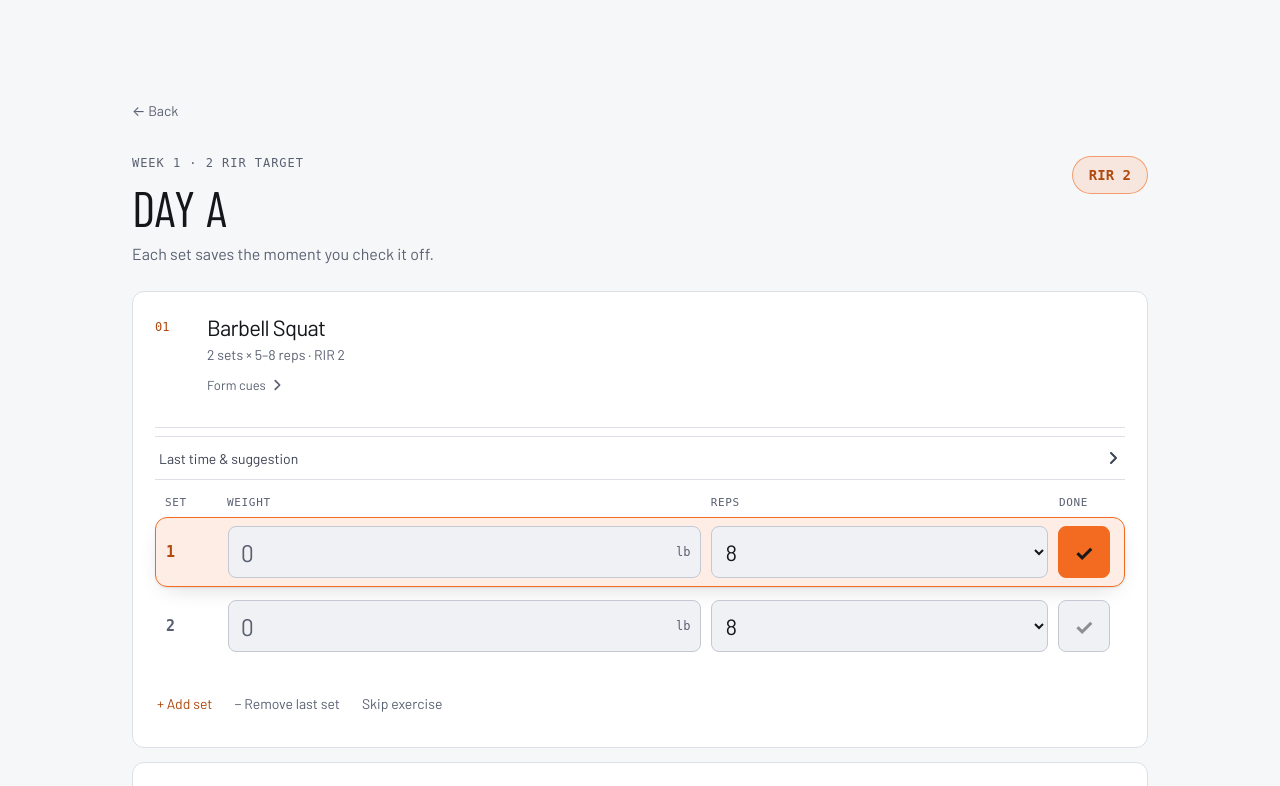
Scenario: SessionView form cues › expanding and collapsing writes nothing to the session
This screenshot has width=1280, height=786.
Step 1. Click the button with aria-label "Barbell Squat form cues" → (245, 385), box [207,363,284,407]
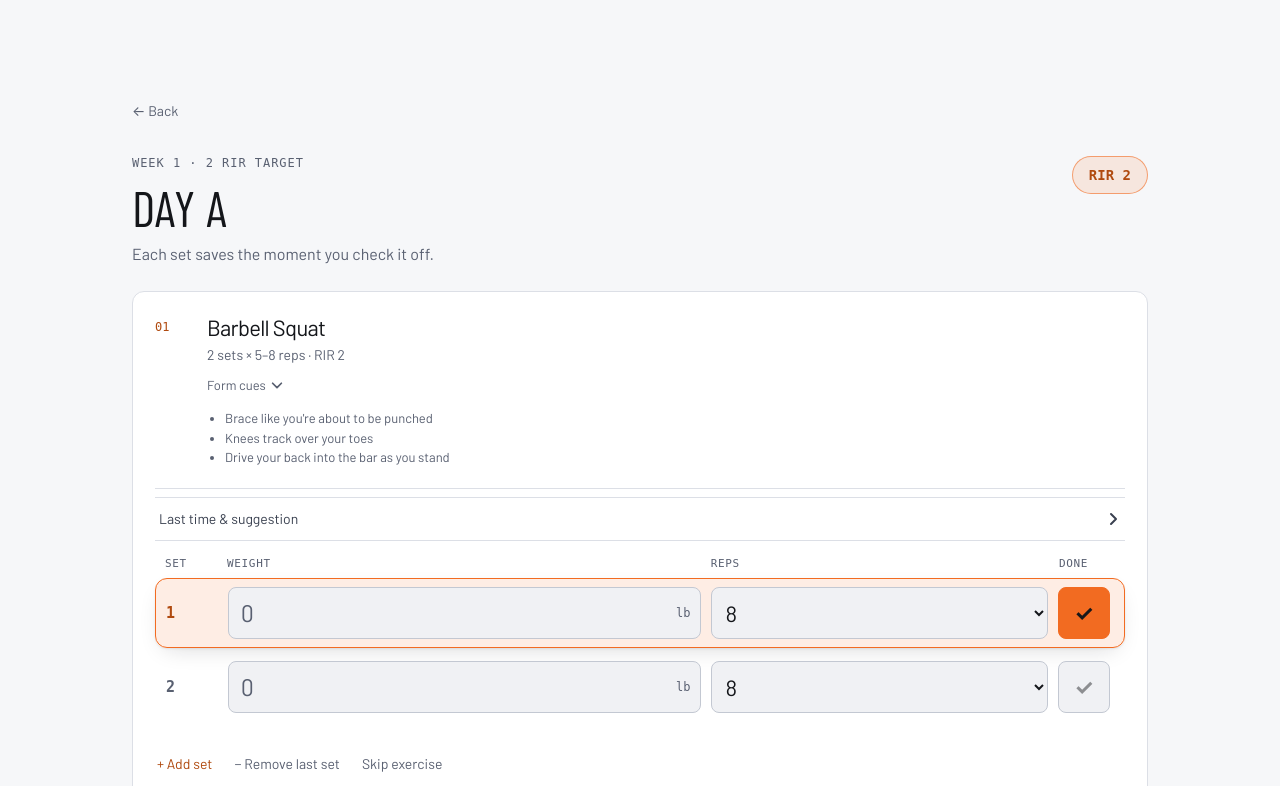
Expected: the button with aria-label "Barbell Squat form cues" is expanded
Step 2. Click the button with aria-label "Barbell Squat form cues" → (245, 385), box [207,363,284,407]
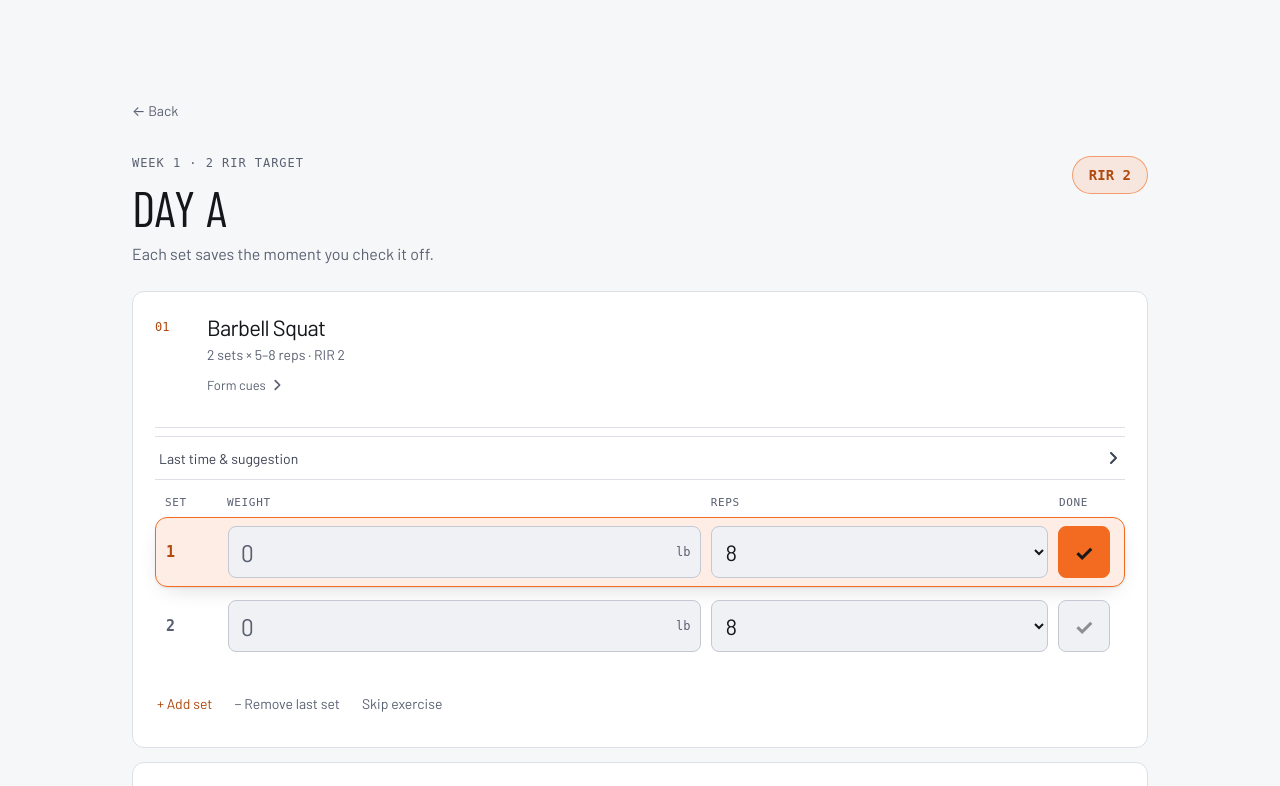
Expected: the button with aria-label "Barbell Squat form cues" is collapsed, [207,363,284,407]
